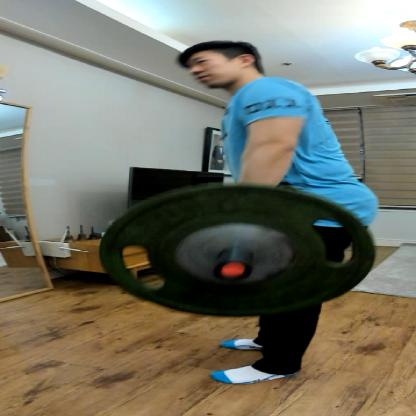Barbell: (90, 178, 384, 322)
